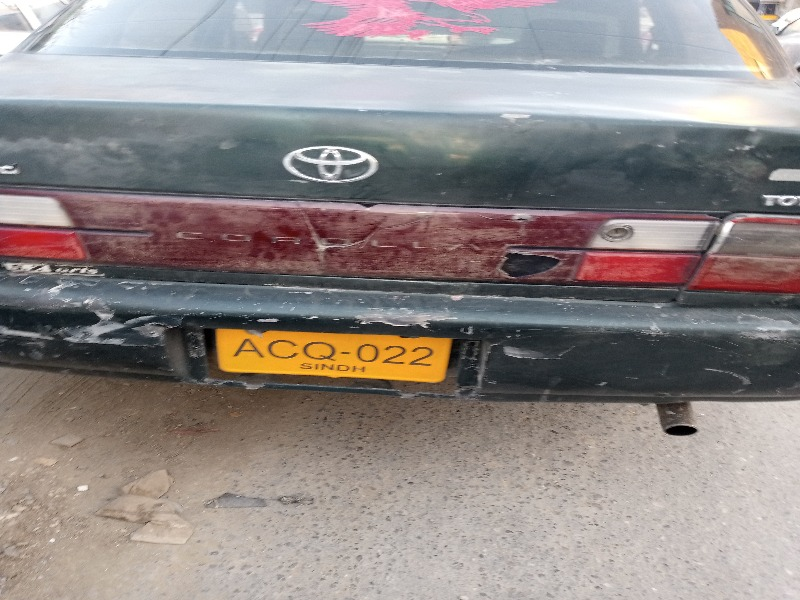License Plate: (209, 321, 455, 391)
